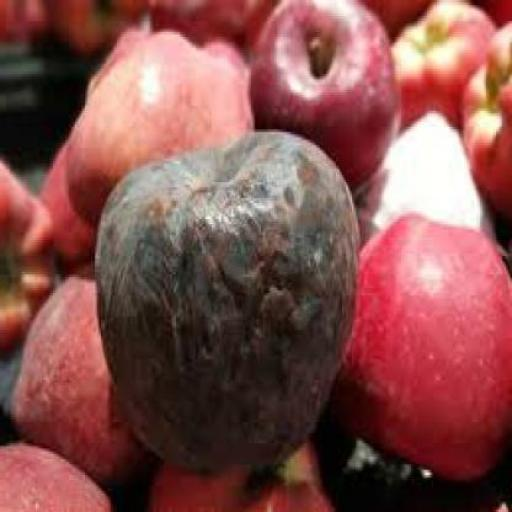biodegradable: (98, 126, 362, 472), (334, 211, 512, 470), (71, 26, 255, 224), (12, 262, 162, 483), (248, 0, 404, 182), (40, 24, 136, 270), (152, 433, 346, 510), (392, 0, 498, 127), (464, 15, 512, 227), (2, 438, 116, 510), (152, 0, 277, 39), (53, 0, 146, 43), (1, 0, 57, 46), (368, 0, 432, 30), (477, 0, 510, 23)
